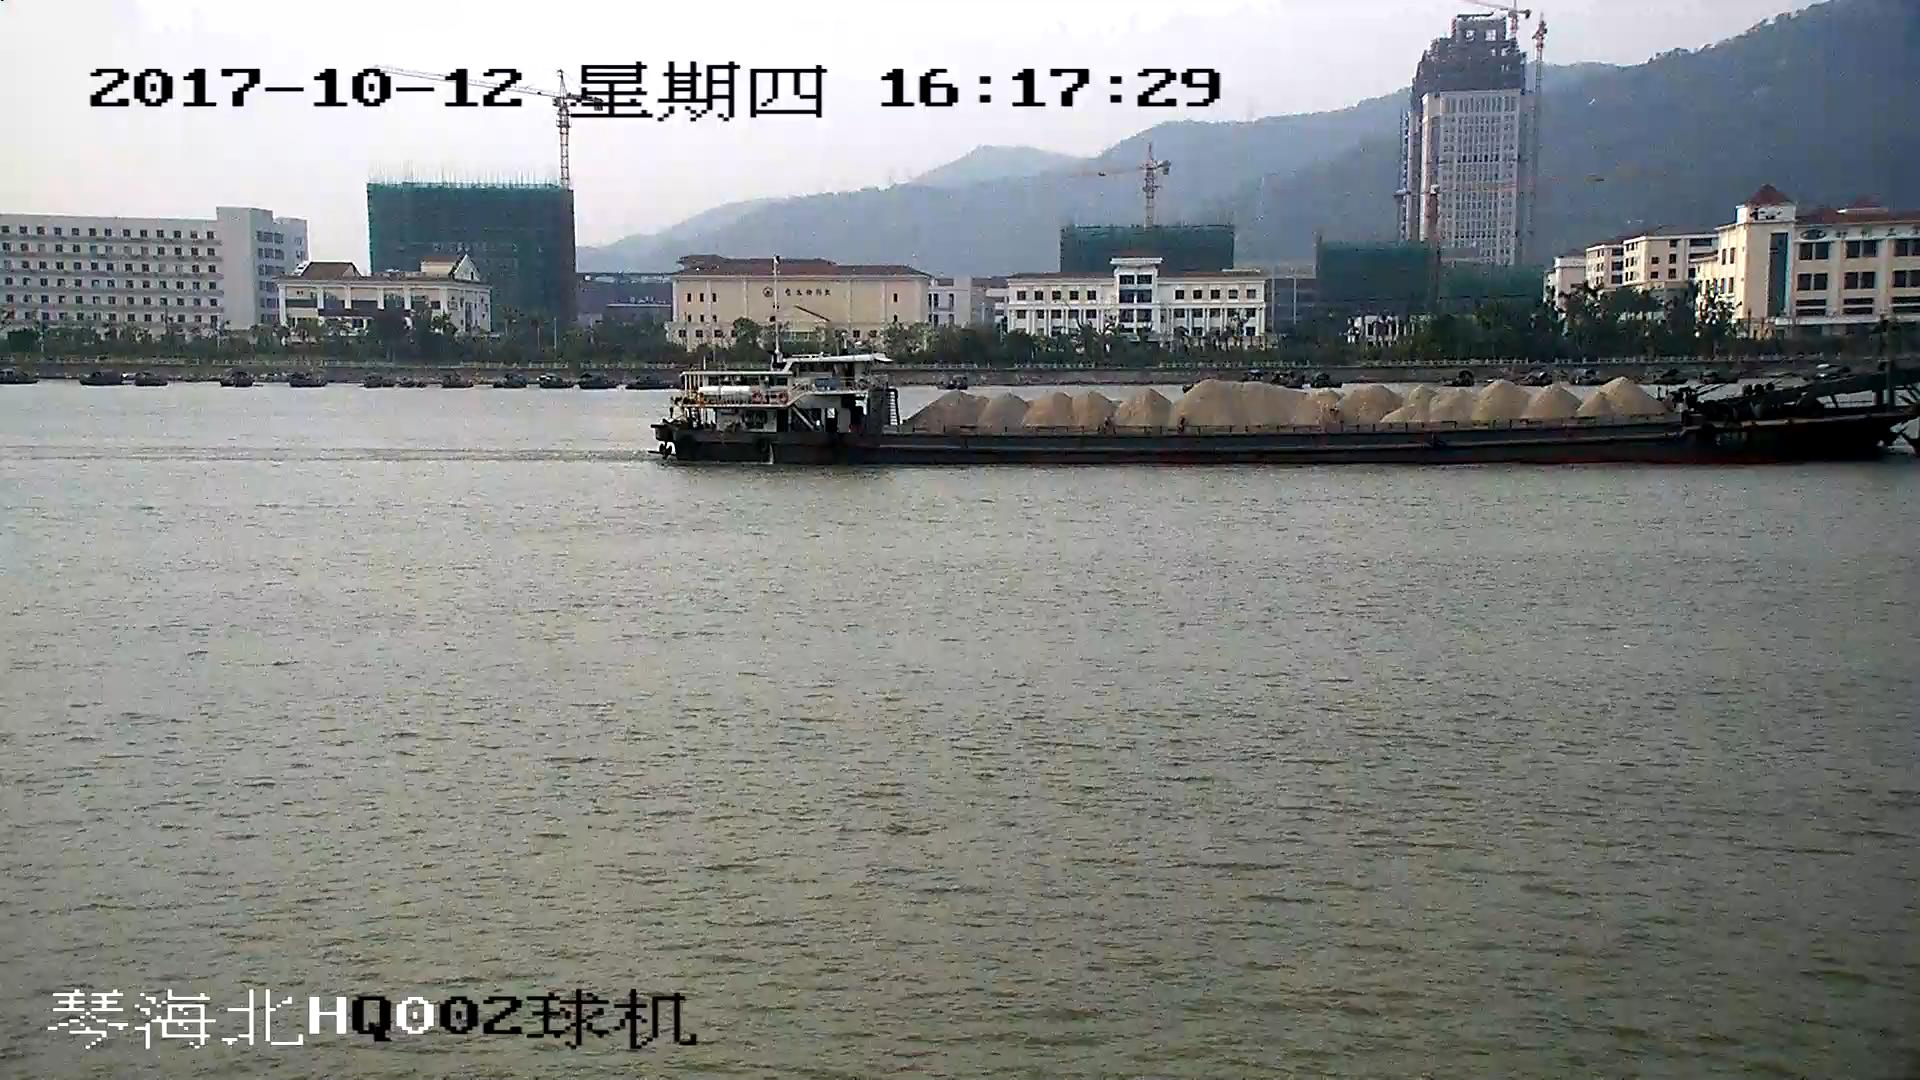ore carrier: (666, 333, 1920, 466)
